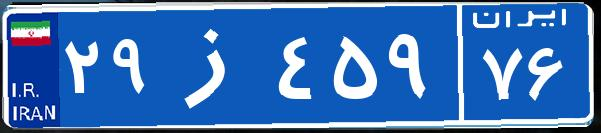2: (57, 26, 110, 107)
4: (273, 28, 330, 110)
5: (330, 28, 385, 110)
6: (525, 38, 570, 115)
7: (475, 38, 525, 113)
9: (385, 28, 445, 110), (110, 28, 158, 105)
ز: (158, 15, 273, 115)
